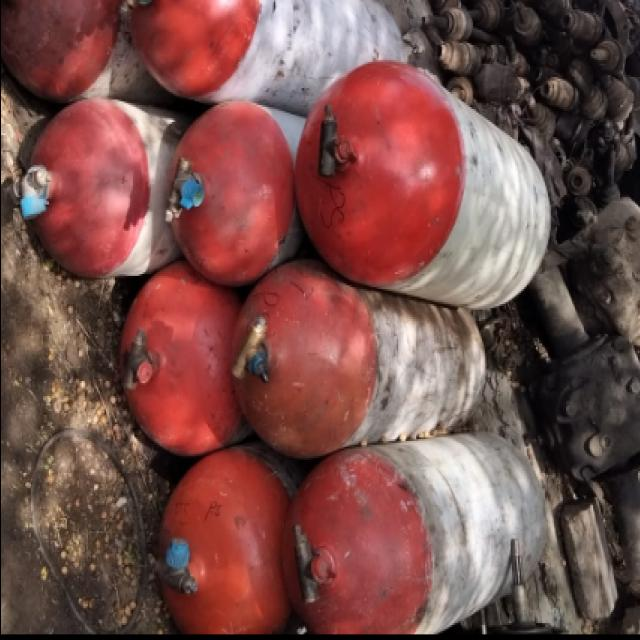cylinder: (296, 61, 550, 310), (282, 432, 547, 634), (232, 260, 486, 457)
